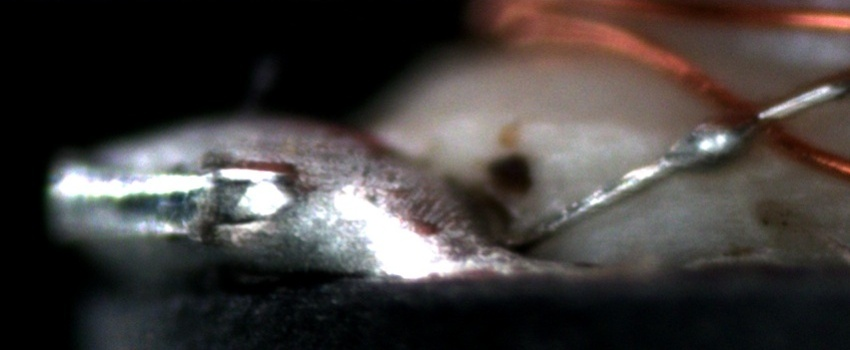CL: (706, 69, 823, 164)
DL: (456, 112, 655, 144)
TB: (664, 120, 753, 176)
TS: (508, 84, 845, 250)
TTCW: (501, 72, 847, 249)
